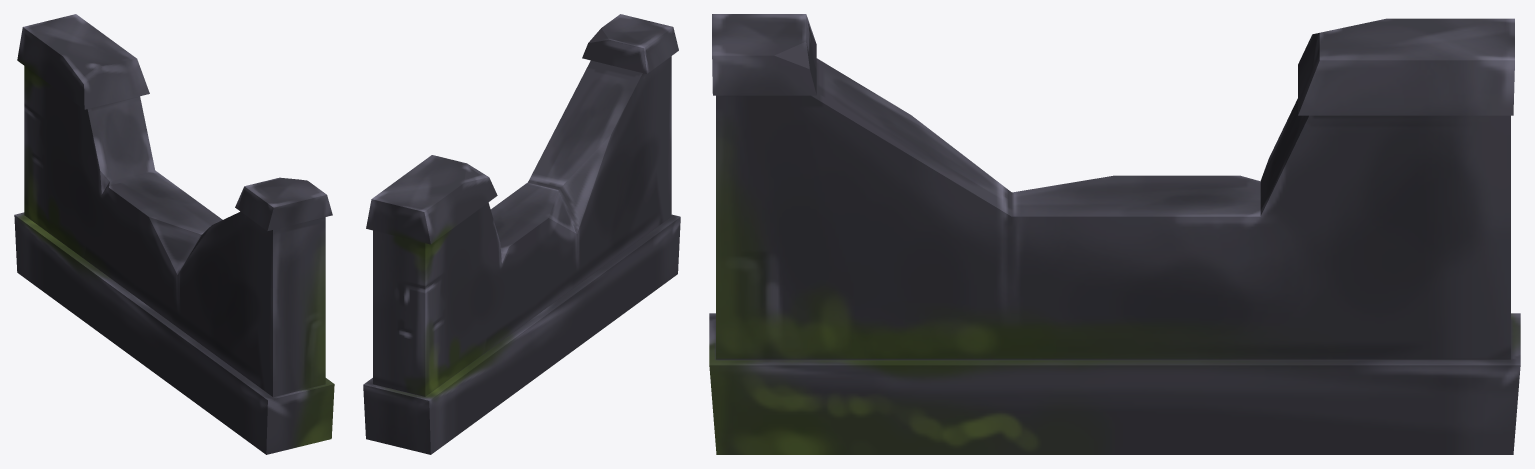
Rendered from SmallWall.fbx.
3 views of the same model, side by side, from view 1: azimuth 30°, elevation 25°; view 2: azimuth 150°, elevation 25°; view 3: azimuth 270°, elevation 25° (orthographic). The views are drawn at different scales.
Visible parts, largest first — view 1: Pillar5; view 2: Pillar5; view 3: Pillar5.
Boxes of the visible parts, x1,y1,x2,y2 form: Pillar5: (14,14,334,454); Pillar5: (363,14,680,454); Pillar5: (709,14,1520,454).
Size of the model in its own units: 25.57 by 90.44 by 168.
